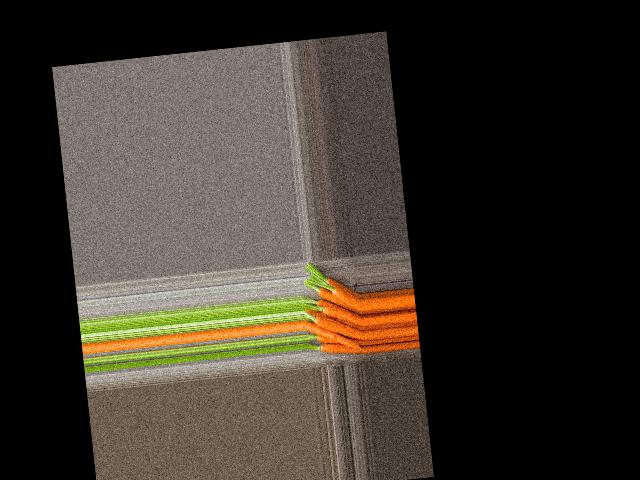carrot: (308, 283, 359, 312)
